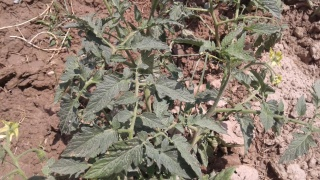tomato flower: (268, 41, 284, 90), (1, 112, 21, 143), (267, 70, 286, 88), (269, 47, 285, 67)
tomato plant: (74, 12, 239, 174)
